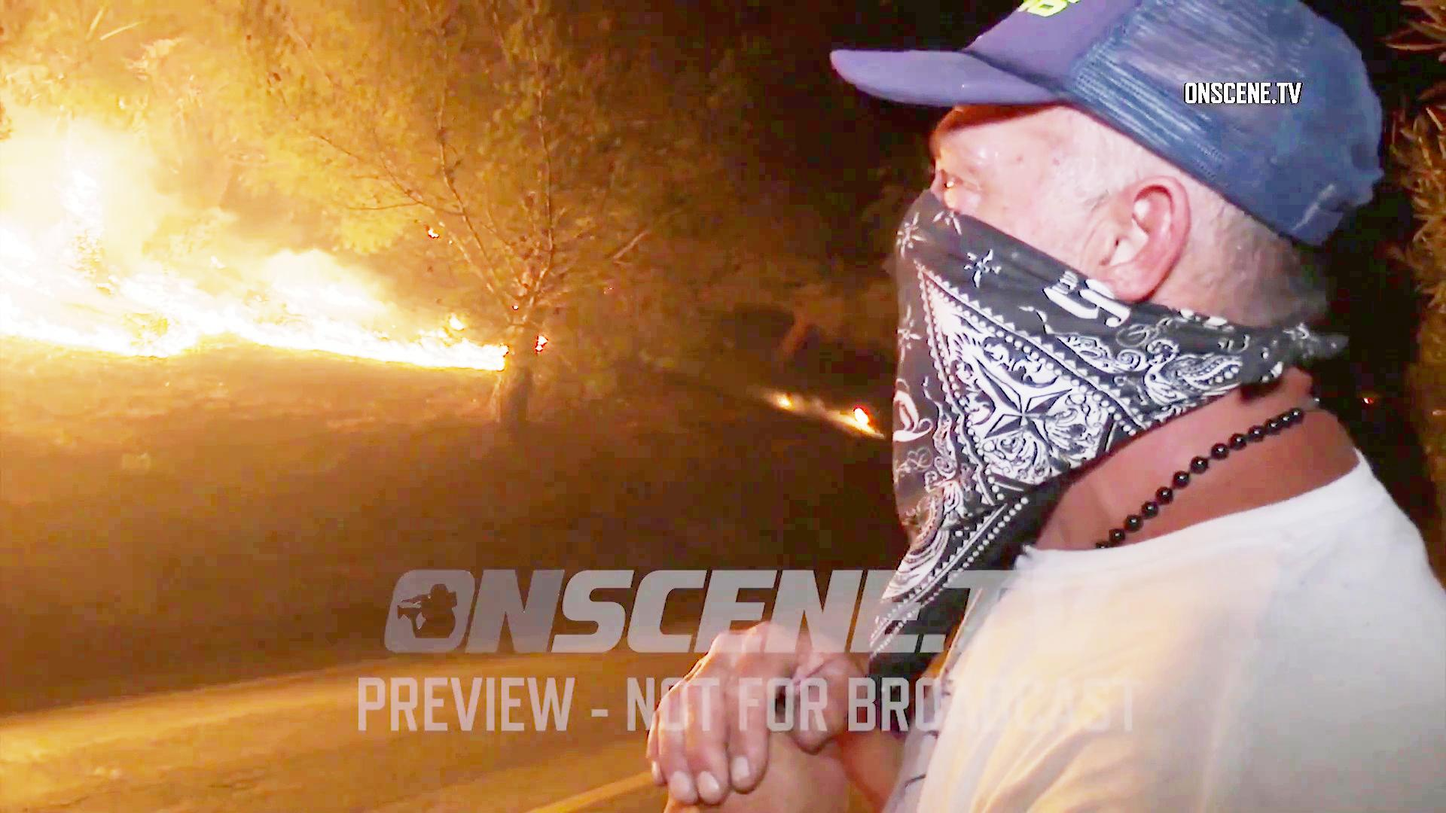fire: (0, 183, 179, 350), (217, 273, 408, 368)
